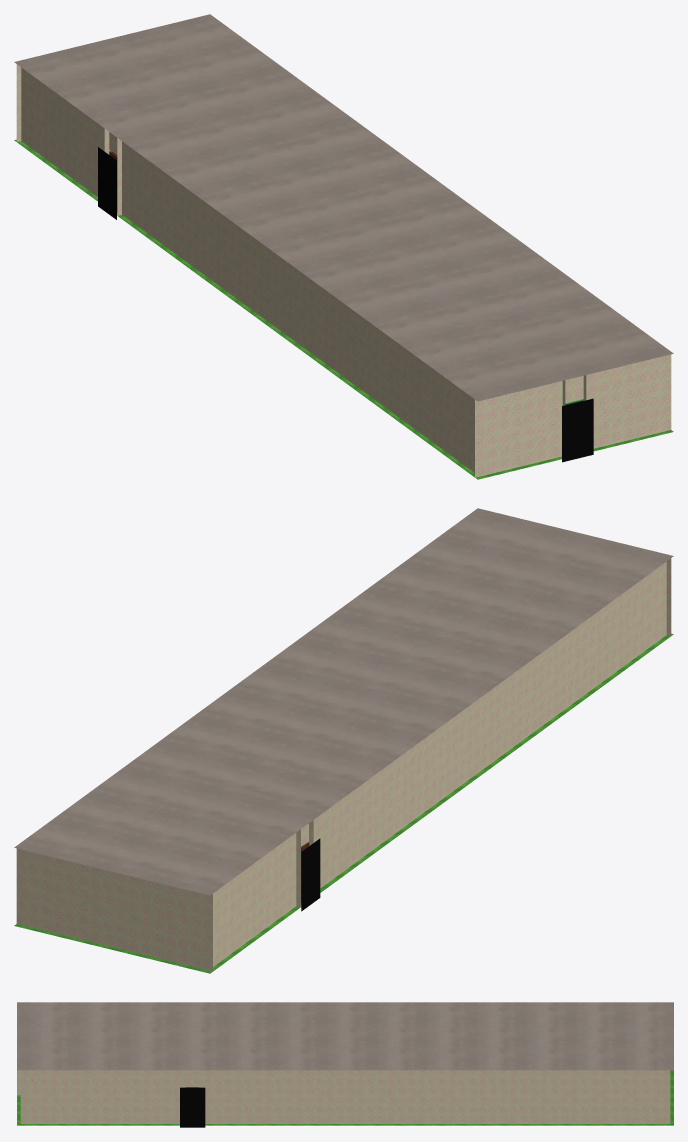
File: rdwe_long_table.glb
The picture shows the model from 3 angles, top to bottom: view 1: azimuth 30°, elevation 25°; view 2: azimuth 150°, elevation 25°; view 3: azimuth 270°, elevation 25°; orthographic projection. The views are drawn at different scales.
Visible parts, largest first — view 1: Ceil_Plaster, Wall_Cream, Void, Floor_Shag; view 2: Ceil_Plaster, Wall_Cream, Floor_Shag, Void; view 3: Ceil_Plaster, Wall_Cream, Floor_Shag, Void.
Part boxes in pixels (x1,y1,x2,y2): Ceil_Plaster: (14, 14, 673, 401); Wall_Cream: (16, 64, 671, 477); Void: (98, 147, 593, 462); Floor_Shag: (14, 139, 673, 479); Ceil_Plaster: (14, 508, 673, 895); Wall_Cream: (16, 558, 671, 971); Floor_Shag: (14, 633, 673, 973); Void: (301, 838, 320, 911); Ceil_Plaster: (17, 1002, 673, 1070); Wall_Cream: (17, 1070, 670, 1123); Floor_Shag: (17, 1070, 673, 1125); Void: (180, 1087, 205, 1127).
Bounding box in the file's own units: 8.7 × 3.25 × 34.55.
Materials: 25 (18 with a texture image).
